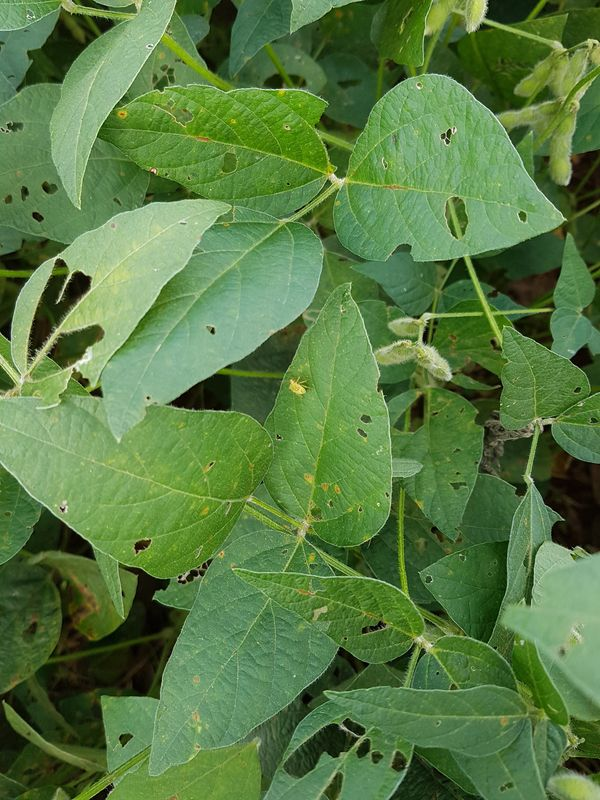Euschistus_heros_ninfa: (280, 372, 317, 404)
